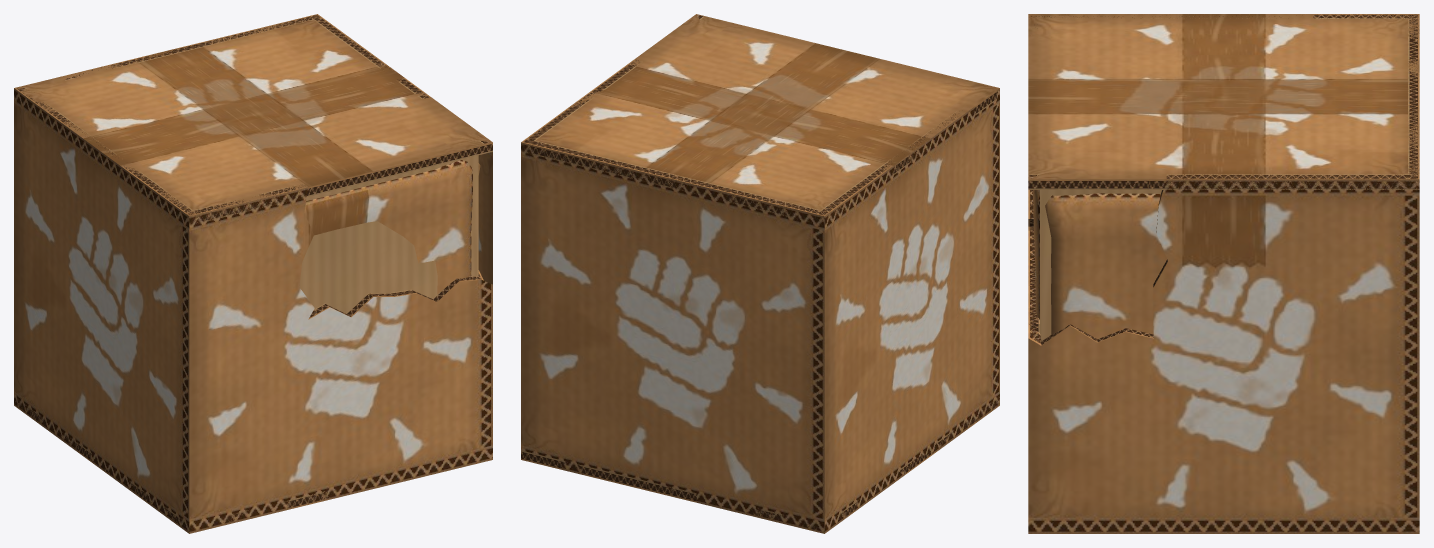
Rendered from carton.glb.
3 views of the same model, side by side, from view 1: azimuth 30°, elevation 25°; view 2: azimuth 150°, elevation 25°; view 3: azimuth 270°, elevation 25° (orthographic). The views are drawn at different scales.
Visible parts, largest first — view 1: carton_shard_07, carton_shard_00, carton_shard_06, carton_shard_08, carton_shard_01, carton_shard_10, box_carton, carton_shard_04, carton_shard_09, carton_shard_05, carton_shard_03, carton_shard_11; view 2: carton_shard_04, carton_shard_08, carton_shard_05, carton_shard_03, carton_shard_07, carton_shard_06, carton_shard_02, carton_shard_10, carton_shard_09, carton_shard_12, carton_shard_11; view 3: carton_shard_03, carton_shard_08, carton_shard_02, carton_shard_00, carton_shard_10, box_carton, carton_shard_09, carton_shard_01, carton_shard_05.
Boxes of the visible parts, x1=… form: carton_shard_07: x1=57, y1=121, x2=314, y2=399; carton_shard_00: x1=294, y1=271, x2=492, y2=504; carton_shard_06: x1=62, y1=294, x2=311, y2=533; carton_shard_08: x1=14, y1=45, x2=356, y2=224; carton_shard_01: x1=299, y1=140, x2=492, y2=319; carton_shard_10: x1=206, y1=14, x2=419, y2=123; box_carton: x1=304, y1=160, x2=480, y2=293; carton_shard_04: x1=14, y1=196, x2=70, y2=444; carton_shard_09: x1=291, y1=93, x2=492, y2=184; carton_shard_05: x1=14, y1=44, x2=197, y2=240; carton_shard_03: x1=193, y1=14, x2=430, y2=98; carton_shard_11: x1=14, y1=398, x2=335, y2=532; carton_shard_04: x1=631, y1=292, x2=881, y2=533; carton_shard_08: x1=635, y1=47, x2=999, y2=224; carton_shard_05: x1=636, y1=169, x2=875, y2=333; carton_shard_03: x1=521, y1=59, x2=652, y2=372; carton_shard_07: x1=863, y1=88, x2=999, y2=350; carton_shard_06: x1=872, y1=268, x2=999, y2=494; carton_shard_02: x1=521, y1=347, x2=646, y2=478; carton_shard_10: x1=521, y1=64, x2=759, y2=178; carton_shard_09: x1=629, y1=14, x2=832, y2=96; carton_shard_12: x1=521, y1=450, x2=696, y2=502; carton_shard_11: x1=746, y1=397, x2=999, y2=532; carton_shard_03: x1=1152, y1=111, x2=1419, y2=409; carton_shard_08: x1=1028, y1=14, x2=1419, y2=120; carton_shard_02: x1=1144, y1=386, x2=1419, y2=533; carton_shard_00: x1=1028, y1=226, x2=1169, y2=533; carton_shard_10: x1=1168, y1=107, x2=1419, y2=189; box_carton: x1=1033, y1=190, x2=1166, y2=339; carton_shard_09: x1=1028, y1=101, x2=1189, y2=189; carton_shard_01: x1=1028, y1=174, x2=1167, y2=345; carton_shard_05: x1=1313, y1=14, x2=1419, y2=111.
Size of the model in its own units: 1 by 1 by 1.
1 material, 1 textured.
